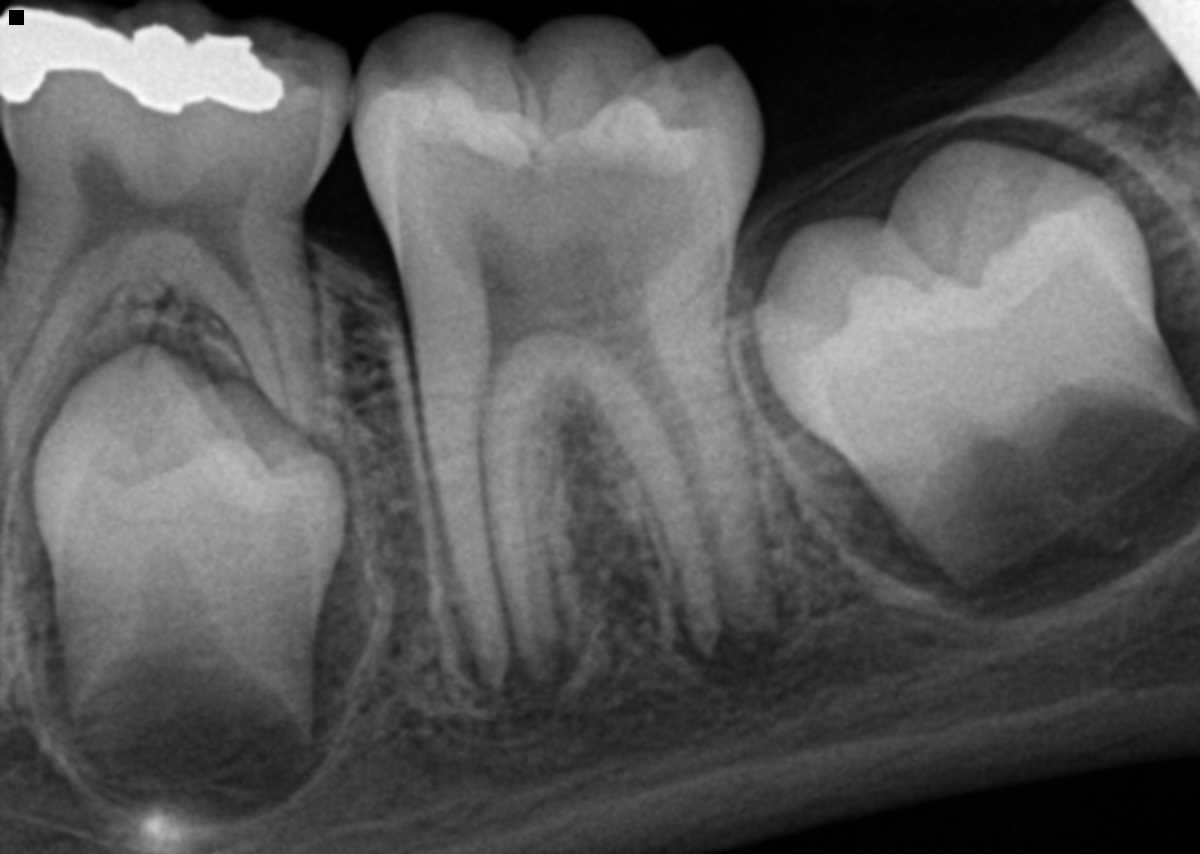Distal Canal: (612, 328, 747, 632), (224, 252, 295, 413)
Distal Root: (574, 305, 775, 655), (196, 245, 320, 438)
Mesial Canal: (1, 239, 106, 405), (475, 335, 526, 660)
Mesial Root: (418, 330, 574, 694), (0, 239, 119, 448)
decay: (418, 145, 695, 295)
